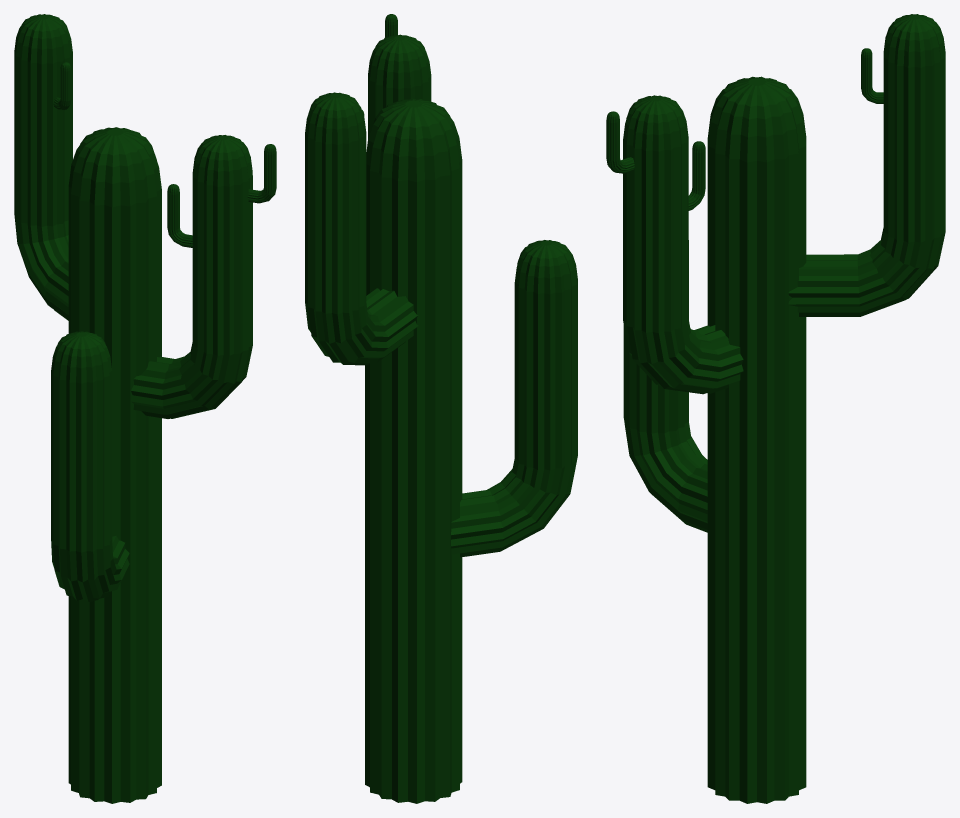
File: cactus0.obj
The picture shows the model from 3 angles, left to right: view 1: azimuth 30°, elevation 25°; view 2: azimuth 150°, elevation 25°; view 3: azimuth 270°, elevation 25°; orthographic projection. The views are drawn at different scales.
Visible parts, largest first — view 1: Circle.001_Circle.009; view 2: Circle.001_Circle.009; view 3: Circle.001_Circle.009.
Part boxes in pixels (x1=…): Circle.001_Circle.009: x1=14, y1=14, x2=276, y2=803; Circle.001_Circle.009: x1=305, y1=14, x2=577, y2=803; Circle.001_Circle.009: x1=606, y1=14, x2=945, y2=803.
Bounding box in the file's own units: 7.18 × 24.43 × 9.8.
